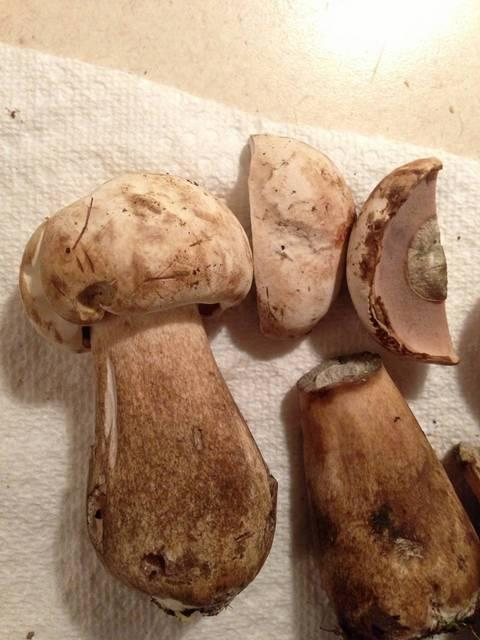Non-edible Mushroom: (17, 169, 279, 621), (294, 350, 479, 638), (344, 154, 461, 365), (245, 131, 356, 341)
